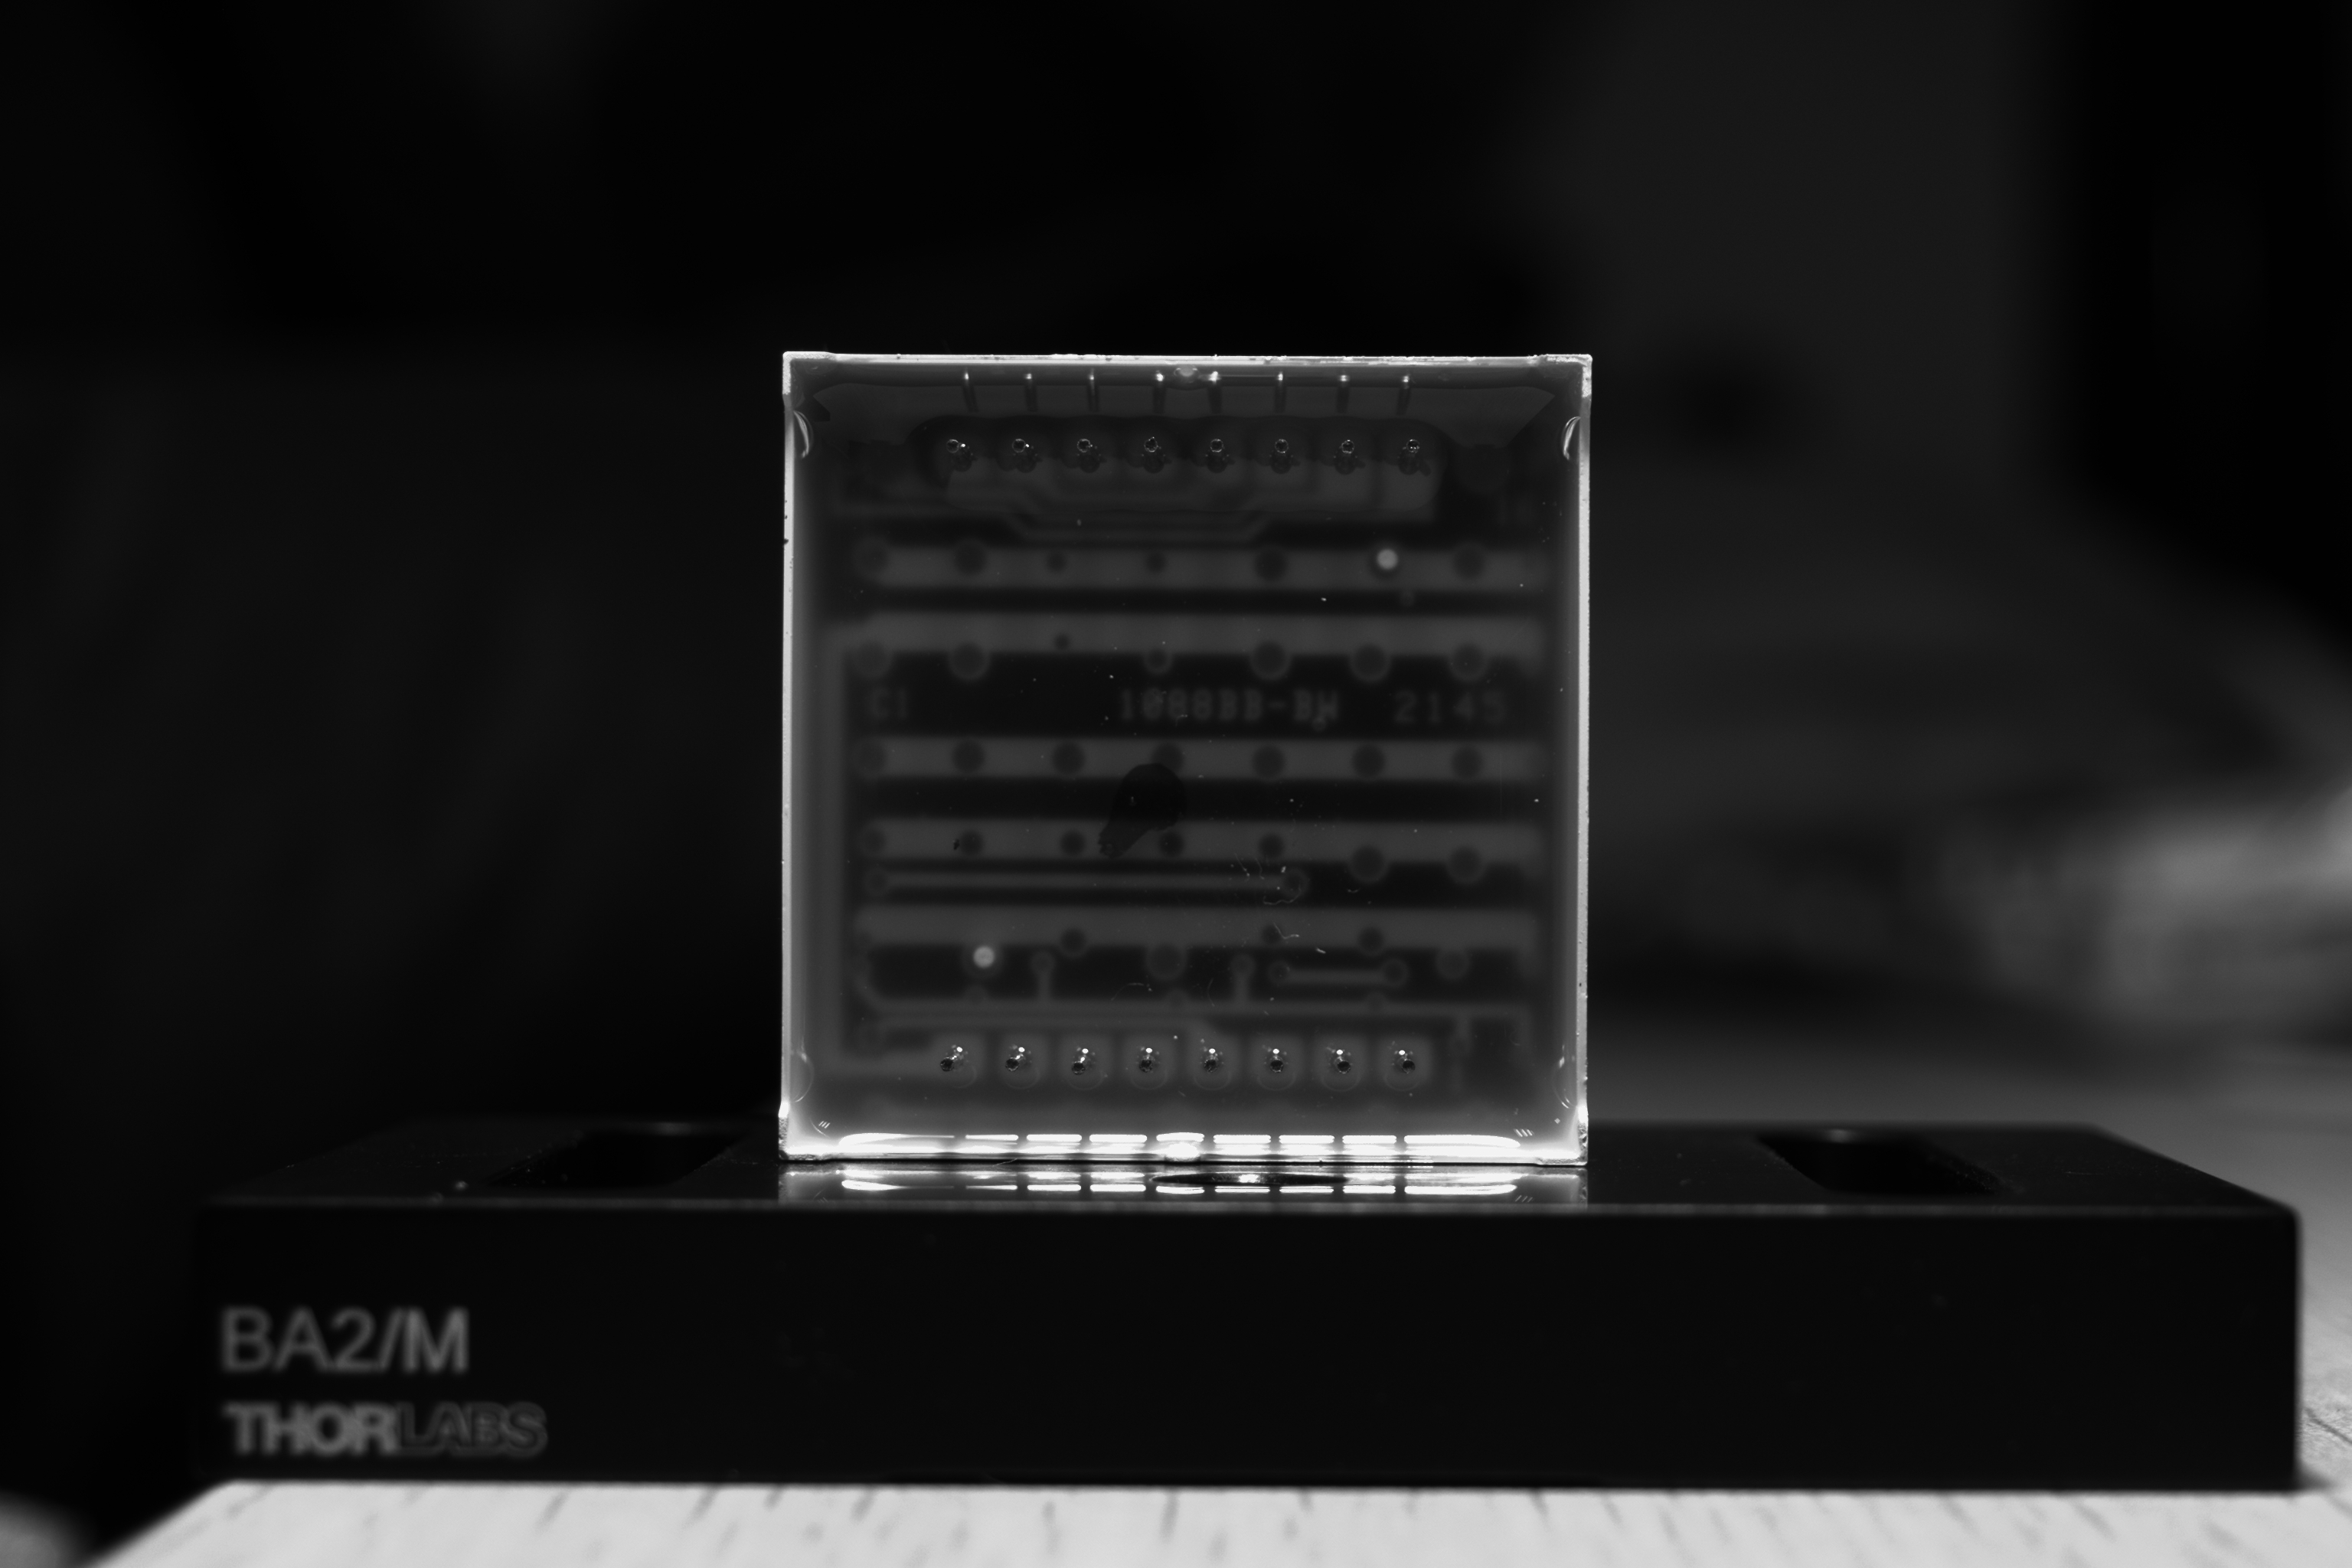pin_inclined_top: (1069, 1045, 1097, 1076)
